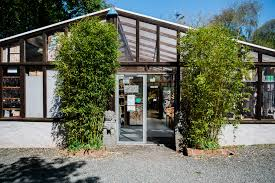bamboo: (56, 20, 123, 159), (176, 24, 247, 154)
